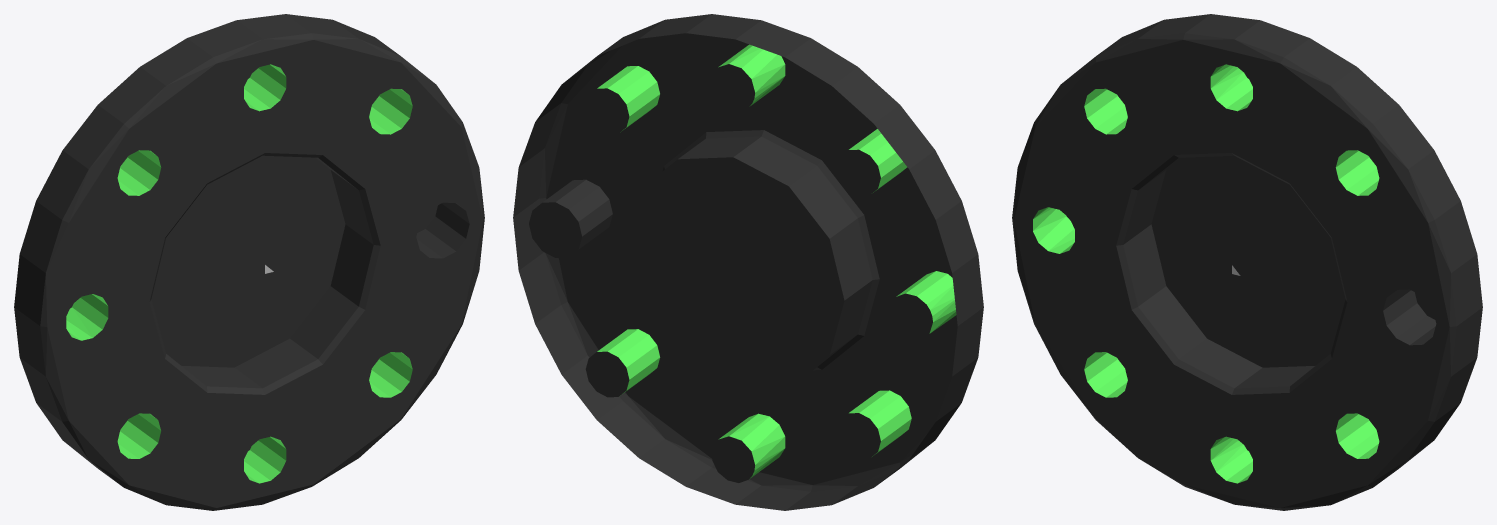
The picture shows the model from 3 angles, left to right: view 1: azimuth 30°, elevation 25°; view 2: azimuth 150°, elevation 25°; view 3: azimuth 330°, elevation 25°; orthographic projection.
Visible parts, largest first — view 1: node; view 2: node; view 3: node.
Boxes of the visible parts, box(x1,y1,x2,y2) form: node: box(14, 14, 484, 510); node: box(513, 14, 983, 510); node: box(1012, 14, 1482, 510).
Size of the model in its own units: 50 by 50 by 6.
